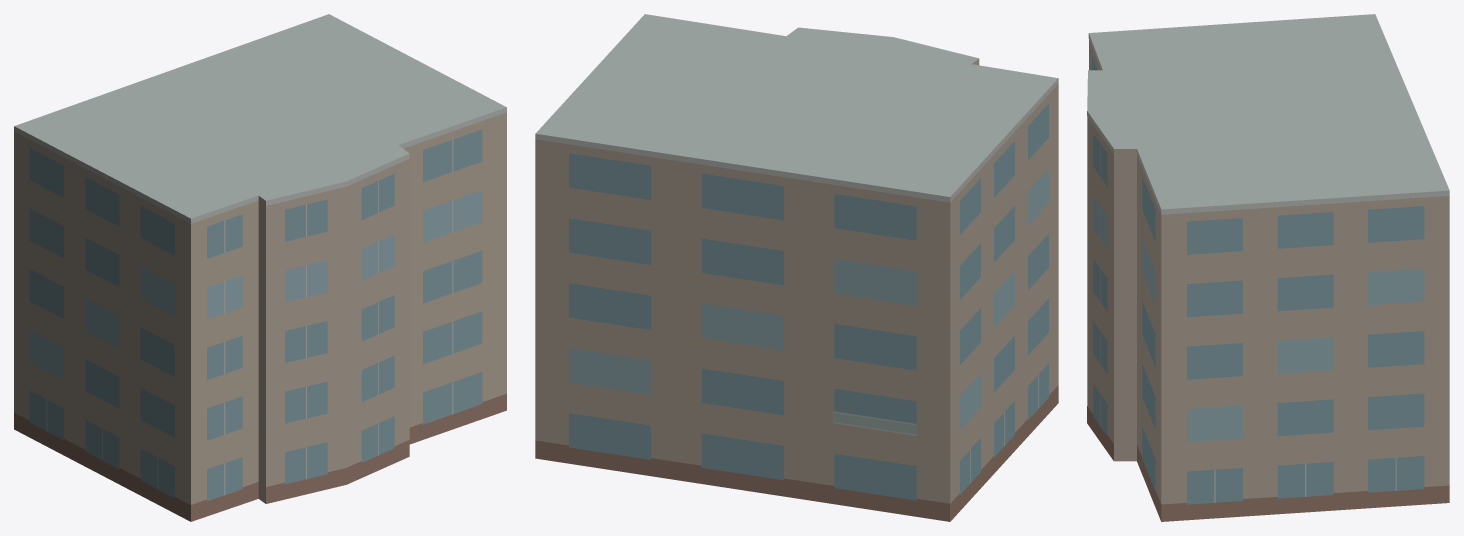
File: survey-upis-32676470.glb
The picture shows the model from 3 angles, left to right: view 1: azimuth 30°, elevation 25°; view 2: azimuth 150°, elevation 25°; view 3: azimuth 270°, elevation 25°; orthographic projection. The views are drawn at different scales.
Visible parts, largest first — view 1: survey-upis-32676470.tmp; view 2: survey-upis-32676470.tmp; view 3: survey-upis-32676470.tmp.
Boxes of the visible parts, left/top/right/bottom form: survey-upis-32676470.tmp: left=14, top=14, right=506, bottom=521; survey-upis-32676470.tmp: left=535, top=14, right=1058, bottom=521; survey-upis-32676470.tmp: left=1087, top=14, right=1449, bottom=521.
Bounding box in the file's own units: 19.14 × 14.25 × 15.
